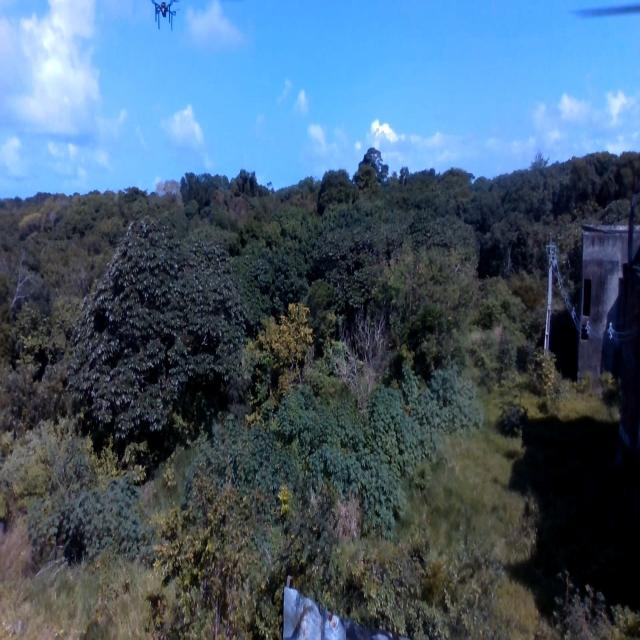-uav-: (150, 0, 181, 41)
